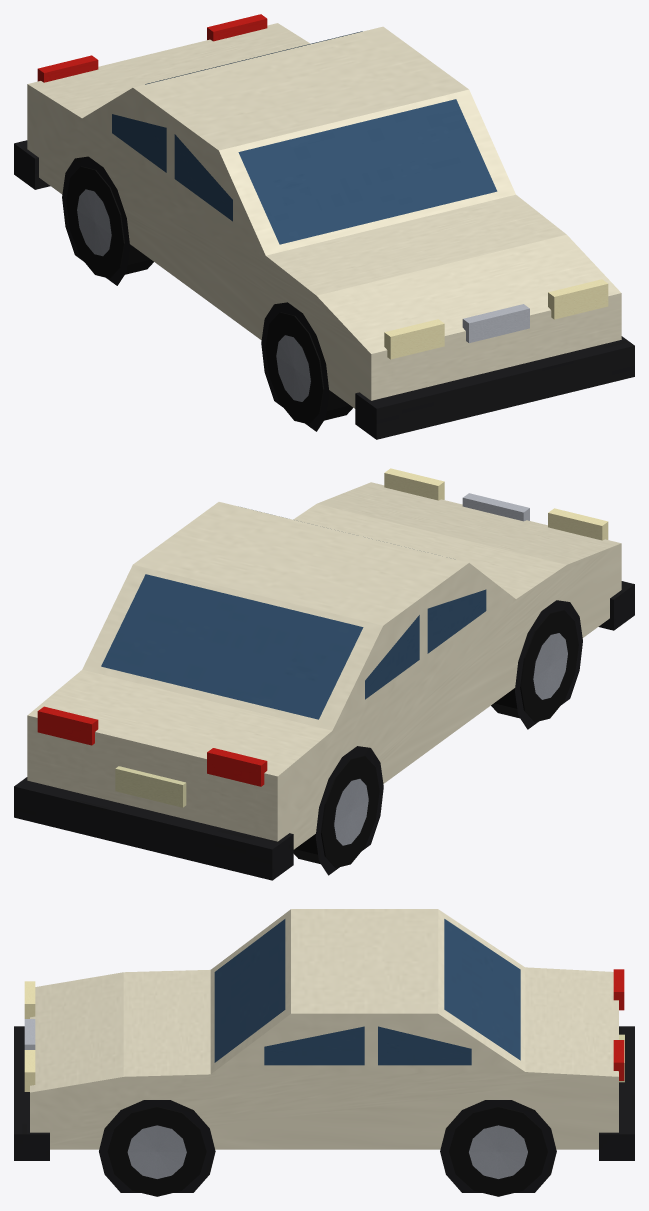
The model's file is saloon-cream.glb.
The picture shows the model from 3 angles, top to bottom: view 1: azimuth 30°, elevation 25°; view 2: azimuth 150°, elevation 25°; view 3: azimuth 270°, elevation 25°; orthographic projection. The views are drawn at different scales.
Visible parts, largest first — view 1: saloon-cream, wheel_rr, wheel_fr; view 2: saloon-cream, wheel_fr, wheel_rr; view 3: saloon-cream, wheel_fl, wheel_rl.
Boxes of the visible parts, <box> form: saloon-cream: <box>14,14,634,439</box>; wheel_rr: <box>66,166,153,278</box>; wheel_fr: <box>265,312,352,424</box>; saloon-cream: <box>14,468,634,880</box>; wheel_fr: <box>491,610,578,722</box>; wheel_rr: <box>293,756,379,867</box>; saloon-cream: <box>14,909,634,1192</box>; wheel_fl: <box>107,1106,206,1196</box>; wheel_rl: <box>449,1106,547,1196</box>.
Bounding box in the file's own units: 1.91 × 1.5 × 4.64.
1 material, 1 textured.
